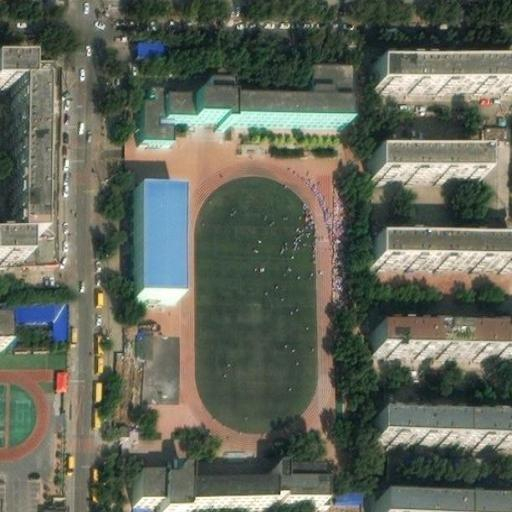building: (0, 56, 49, 256), (133, 464, 322, 510), (167, 72, 349, 111), (132, 187, 178, 296), (370, 328, 512, 354), (372, 239, 512, 262), (377, 413, 512, 436), (377, 489, 510, 512), (380, 62, 512, 84), (138, 328, 178, 395), (375, 150, 485, 170), (11, 298, 68, 332), (143, 83, 175, 134), (315, 56, 355, 87), (34, 229, 64, 256), (328, 490, 364, 512), (132, 37, 166, 60), (118, 502, 158, 512)
